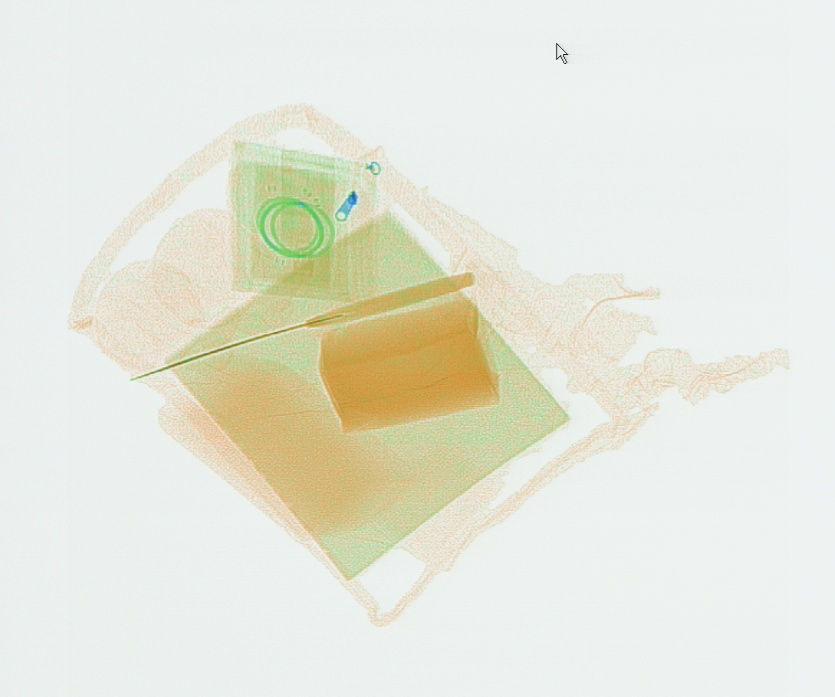knife: (130, 270, 476, 379)
